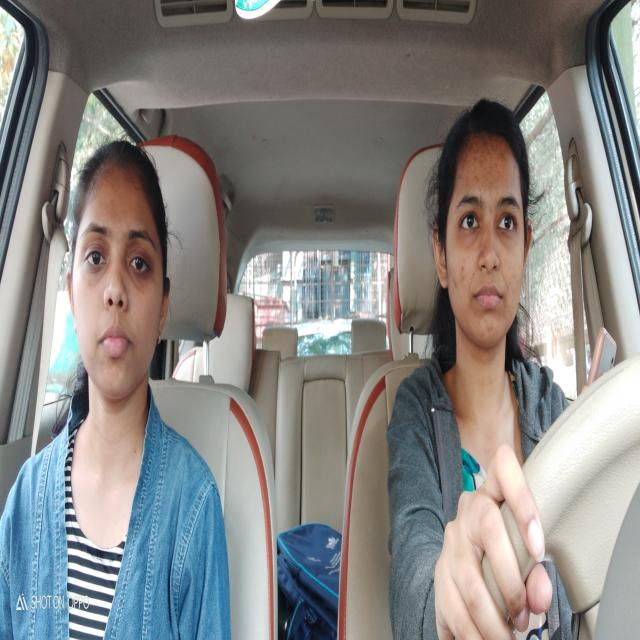person: (64, 132, 170, 444), (430, 94, 532, 388)
